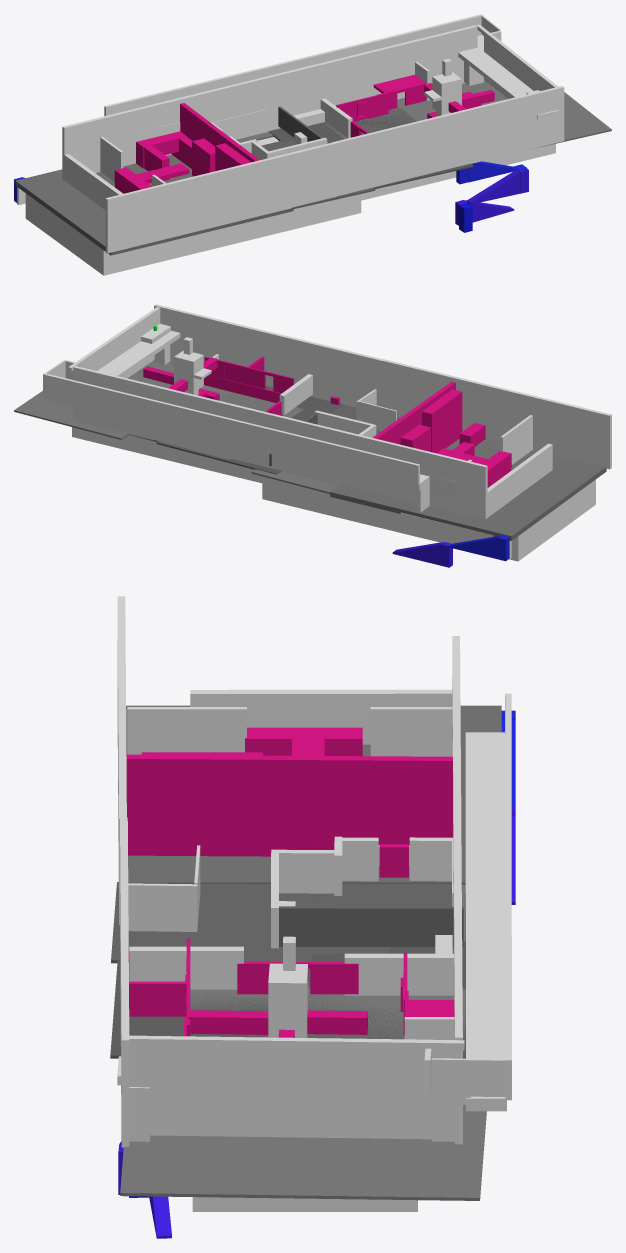
The picture shows the model from 3 angles, top to bottom: view 1: azimuth 30°, elevation 25°; view 2: azimuth 150°, elevation 25°; view 3: azimuth 270°, elevation 25°; orthographic projection. The views are drawn at different scales.
Parts seen in each view (by area): view 1: 立方体.176, 立方体.174, 立方体.232, 立方体.169, 立方体.229, 立方体.157, 立方体.109, 立方体.171, 立方体.159, 立方体.182, 立方体.178, 立方体.223 (+20 smaller); view 2: 立方体.176, 立方体.229, 立方体.174, 立方体.169, 立方体.232, 立方体.157, 立方体.233, 立方体.193, 立方体.217, 立方体.159, 立方体.186, 立方体.178 (+22 smaller); view 3: 立方体.184, 立方体.178, 立方体.159, 立方体.217, 立方体.172, 立方体.186, 立方体.171, 立方体.179, 立方体.176, 立方体.177, 立方体.230, 立方体.167 (+26 smaller).
Part boxes in pixels (x1=…): 立方体.176: x1=105, y1=86, x2=564, y2=253; 立方体.174: x1=246, y1=25, x2=477, y2=136; 立方体.232: x1=25, y1=137, x2=361, y2=275; 立方体.169: x1=62, y1=81, x2=248, y2=180; 立方体.229: x1=104, y1=14, x2=482, y2=116; 立方体.157: x1=15, y1=169, x2=157, y2=255; 立方体.109: x1=336, y1=74, x2=426, y2=121; 立方体.171: x1=269, y1=106, x2=473, y2=188; 立方体.159: x1=462, y1=80, x2=611, y2=149; 立方体.182: x1=136, y1=131, x2=191, y2=180; 立方体.178: x1=484, y1=30, x2=557, y2=98; 立方体.223: x1=458, y1=46, x2=559, y2=119; 立方体.176: x1=154, y1=304, x2=611, y2=469; 立方体.229: x1=43, y1=373, x2=419, y2=485; 立方体.174: x1=73, y1=366, x2=303, y2=475; 立方体.169: x1=299, y1=421, x2=487, y2=519; 立方体.232: x1=262, y1=476, x2=595, y2=561; 立方体.157: x1=465, y1=456, x2=606, y2=540; 立方体.233: x1=72, y1=427, x2=262, y2=483; 立方体.193: x1=204, y1=356, x2=293, y2=402; 立方体.217: x1=44, y1=394, x2=429, y2=490; 立方体.159: x1=14, y1=362, x2=203, y2=439; 立方体.186: x1=487, y1=443, x2=552, y2=517; 立方体.178: x1=77, y1=307, x2=160, y2=378; 立方体.184: x1=126, y1=754, x2=452, y2=856; 立方体.178: x1=129, y1=1035, x2=431, y2=1139; 立方体.159: x1=120, y1=1105, x2=486, y2=1200; 立方体.217: x1=465, y1=732, x2=506, y2=1111; 立方体.172: x1=111, y1=882, x2=316, y2=963; 立方体.186: x1=190, y1=689, x2=452, y2=744; 立方体.171: x1=110, y1=941, x2=465, y2=1058; 立方体.179: x1=127, y1=707, x2=246, y2=754; 立方体.176: x1=117, y1=596, x2=129, y2=1147; 立方体.177: x1=334, y1=906, x2=463, y2=946; 立方体.230: x1=183, y1=987, x2=465, y2=1040; 立方体.167: x1=128, y1=837, x2=465, y2=884.
Size of the model in its own units: 15335 by 3936 by 5304.
